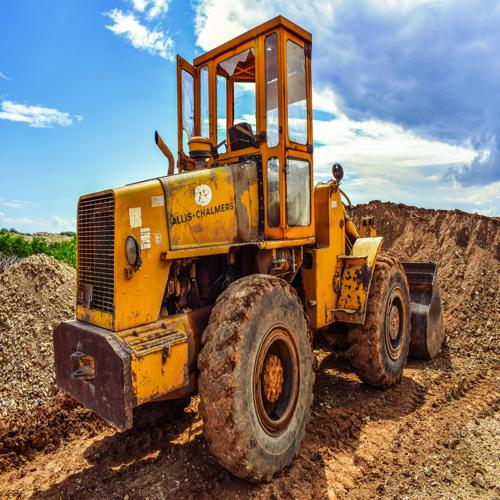con_eq: (54, 17, 446, 482)
